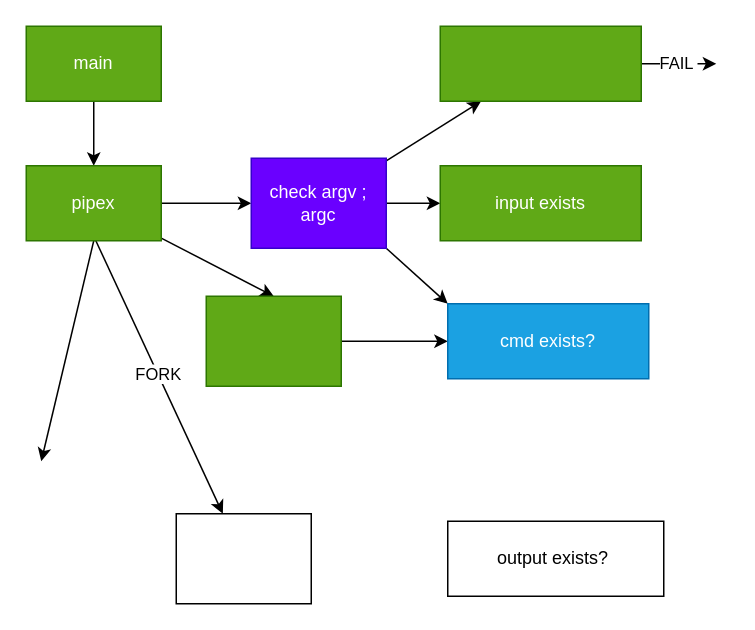
This 755x630 diagram has some shape labels left out. Here are the shapes that lost their labels. From the top down, the centre of each, then its label:
At point 540,63: "at least 5 elements errors.c| check_argc".
At point 273,340: "get_path_env".
At point 243,558: "execute command".
